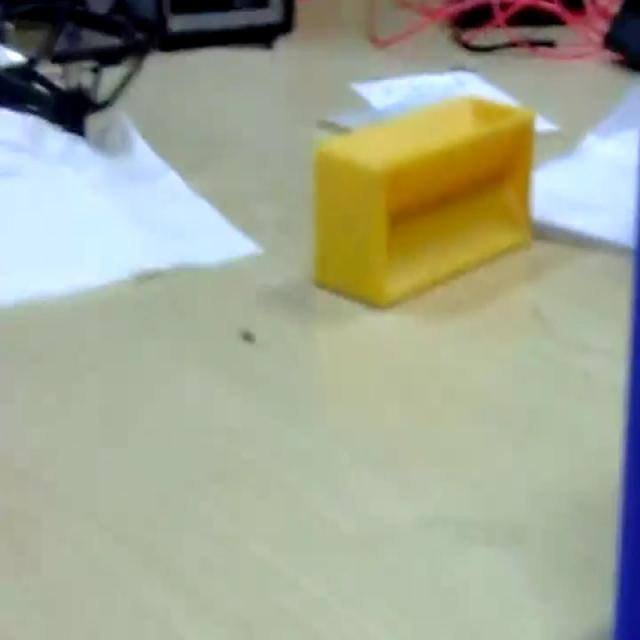yellow_block: (311, 93, 535, 308)
